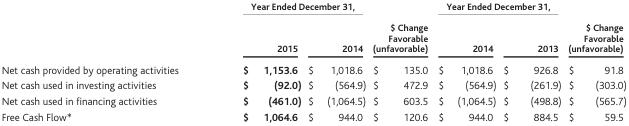table: (0, 0, 625, 122)
table column: (0, 0, 209, 122), (209, 0, 303, 122), (432, 0, 499, 122), (303, 0, 368, 122), (368, 0, 432, 122), (499, 0, 563, 122), (563, 0, 625, 122)
table column header: (0, 0, 625, 58)
table row: (0, 27, 625, 58), (0, 0, 625, 27), (0, 58, 625, 77), (0, 77, 625, 93), (0, 93, 625, 109), (0, 109, 625, 122)
table spanning cell: (209, 0, 368, 27), (368, 0, 432, 58), (563, 0, 625, 58), (432, 0, 563, 27)
